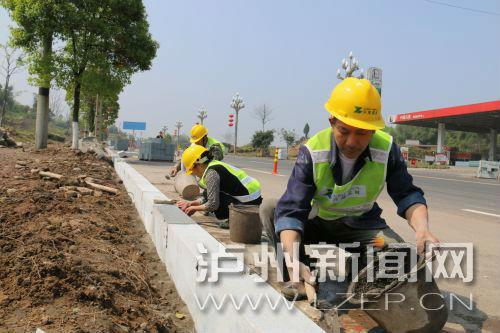helmet: (320, 70, 384, 157), (177, 146, 212, 180), (189, 122, 211, 146)
